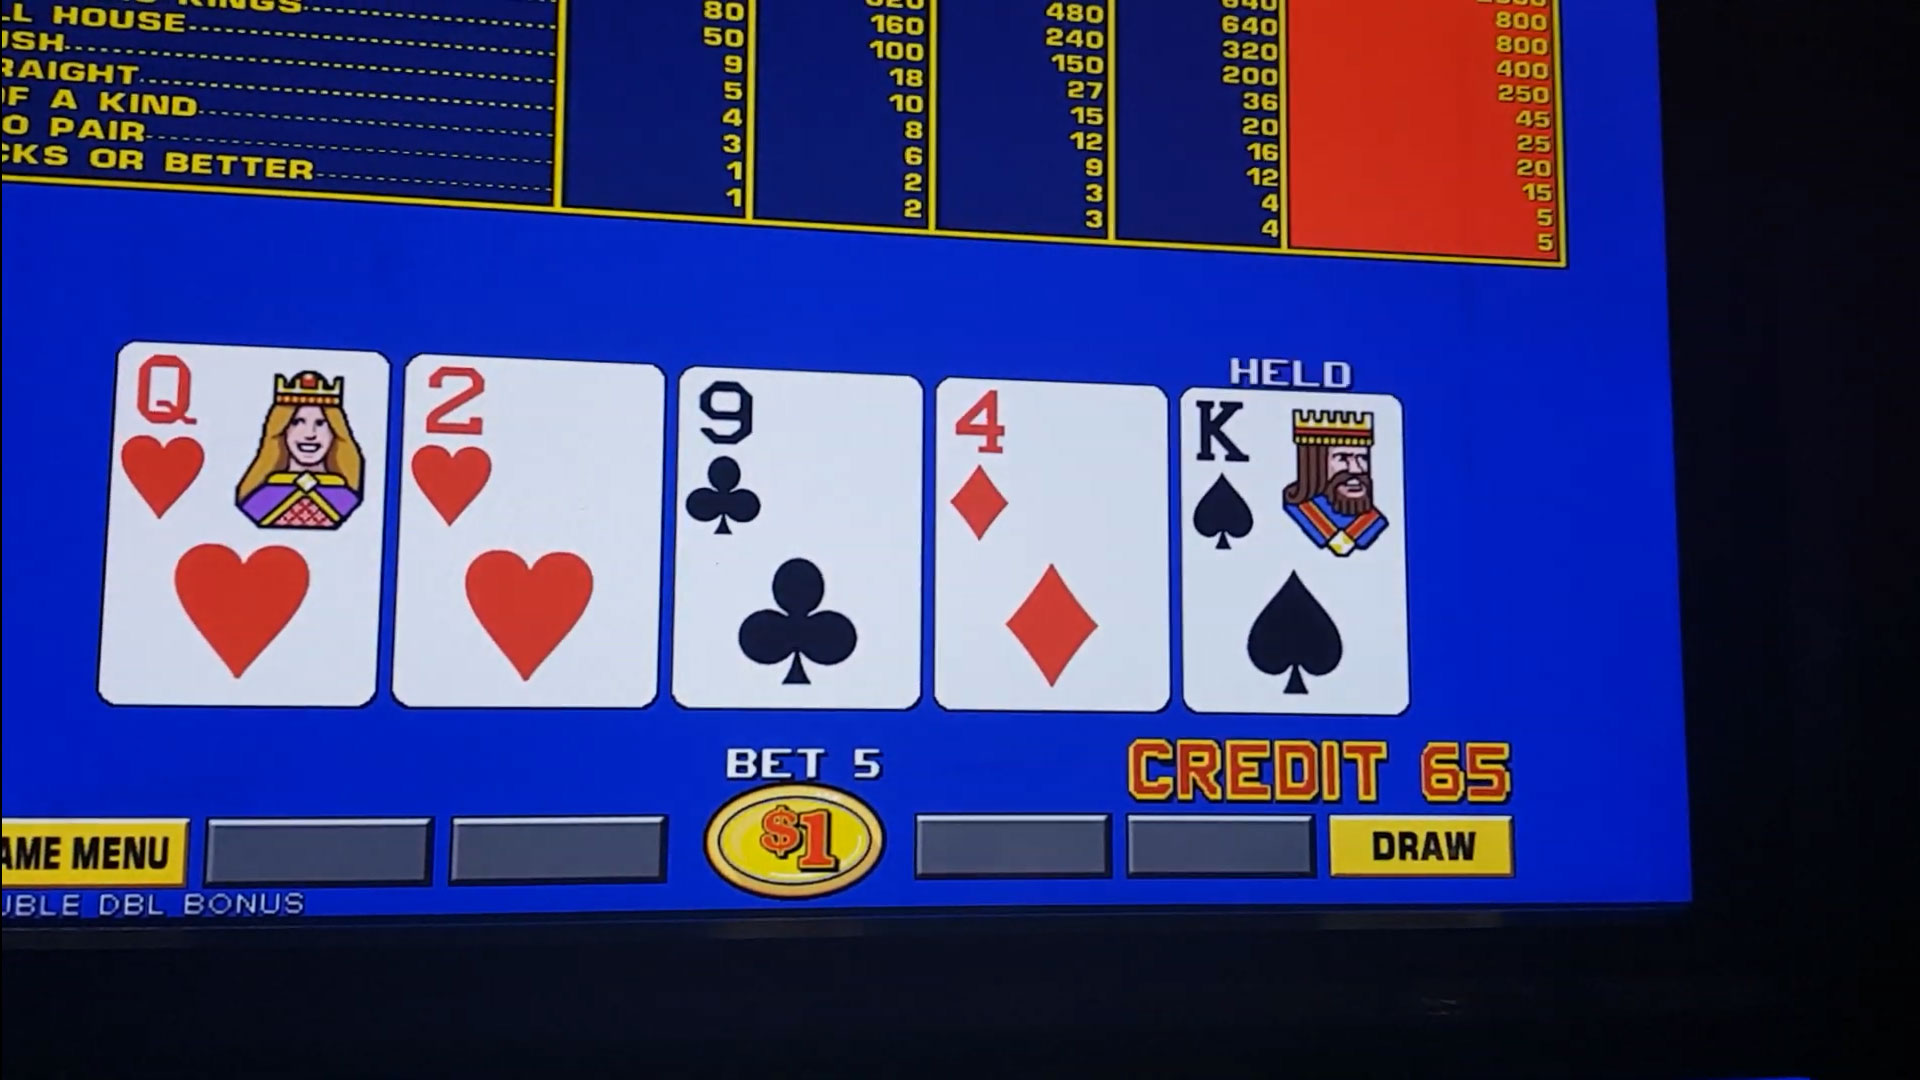C9: (684, 380, 916, 549)
D4: (940, 388, 1159, 567)
H2: (409, 369, 659, 541)
HQ: (123, 357, 382, 535)
SK: (1184, 400, 1400, 566)
